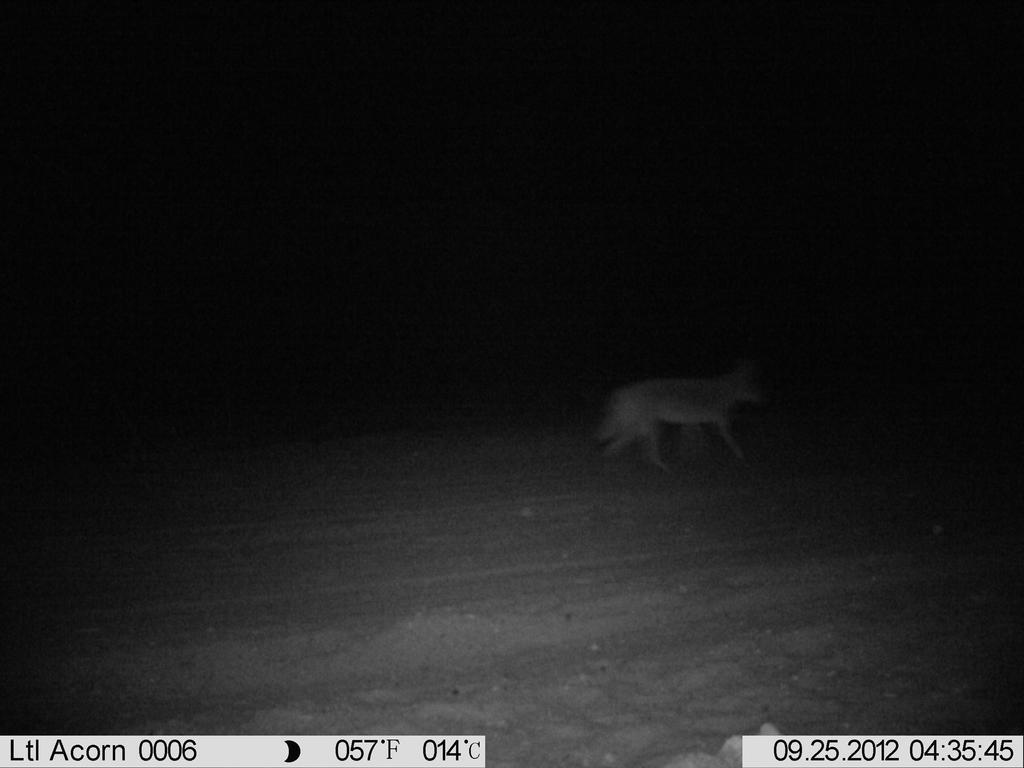coyote: (581, 351, 783, 484)
